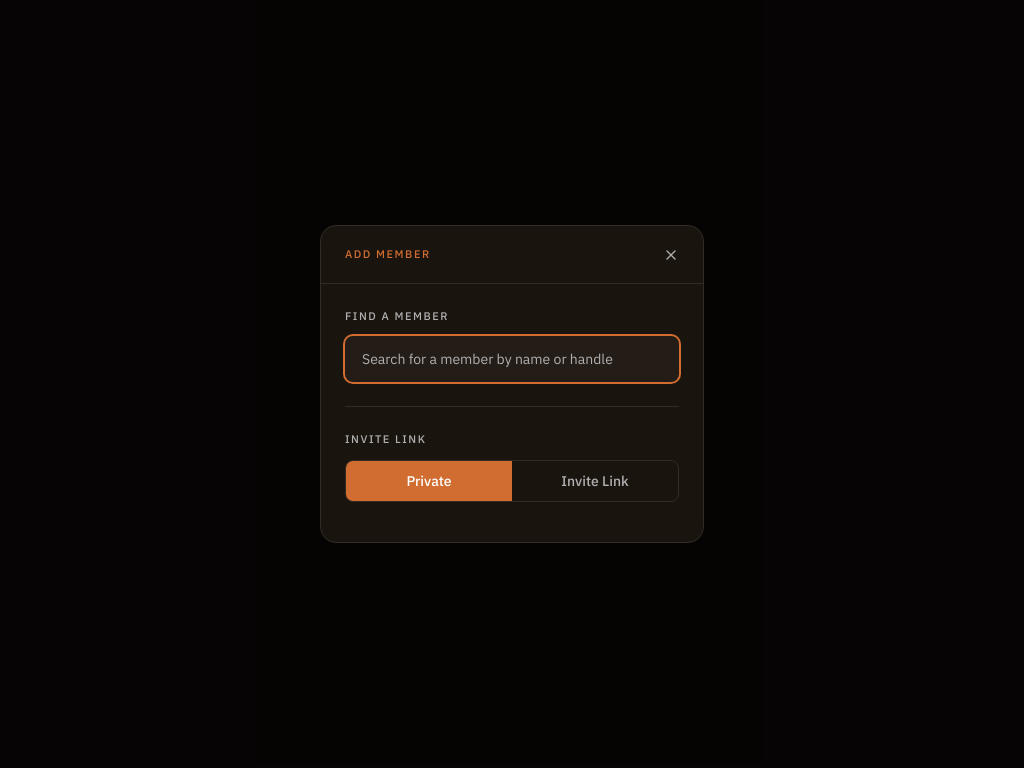
Test: AddMemberModal › Member search › shows "No Kluvs members found" when search returns empty
This screenshot has width=1024, height=768.
In the field with placeholder "Search for a member by name or handle": [512, 359] box [345,336,679,382], type "nobody"
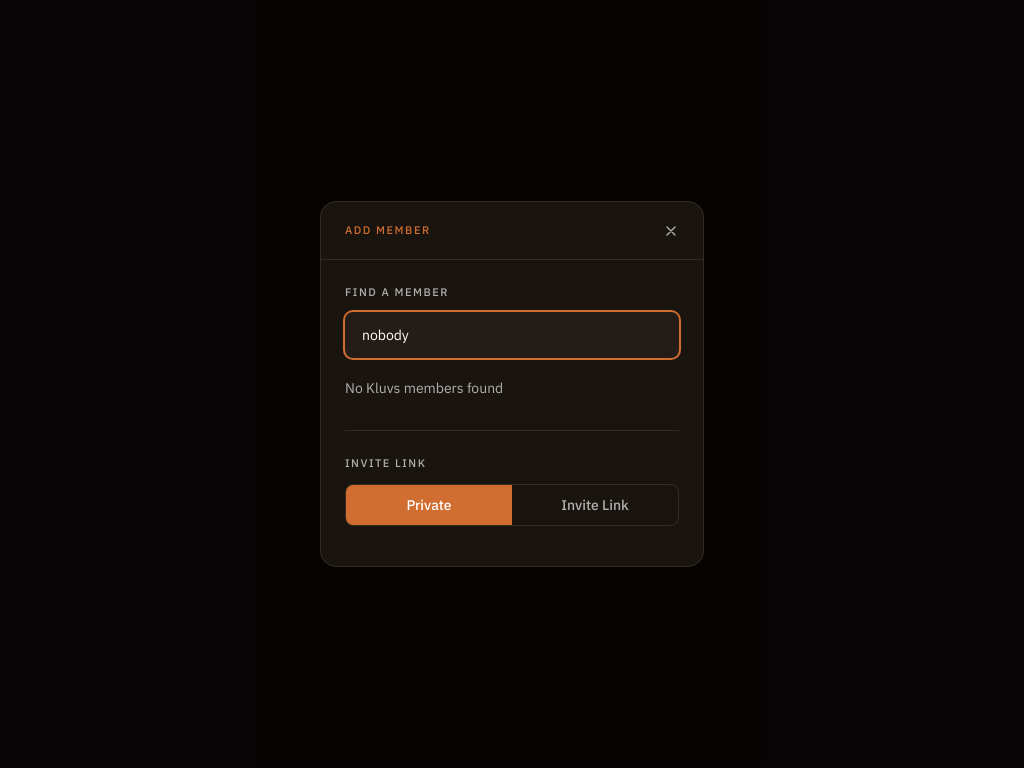
Result: the text "No Kluvs members found" is shown at [345,379,503,397]
